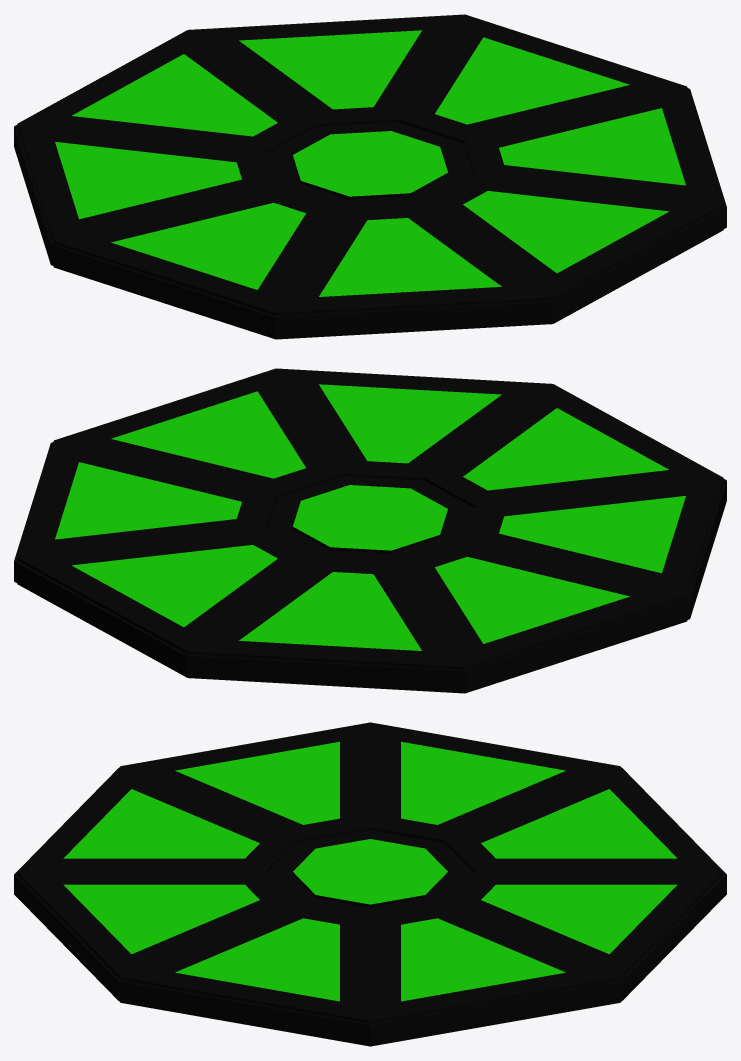
File: yeşilplak.fbx
The picture shows the model from 3 angles, top to bottom: view 1: azimuth 30°, elevation 25°; view 2: azimuth 150°, elevation 25°; view 3: azimuth 270°, elevation 25°; orthographic projection. The views are drawn at different scales.
Visible parts, largest first — view 1: Cylinder; view 2: Cylinder; view 3: Cylinder.
Boxes of the visible parts, x1,y1,x2,y2 form: Cylinder: [14, 14, 726, 339]; Cylinder: [14, 368, 726, 693]; Cylinder: [14, 722, 726, 1046].
Size of the model in its own units: 564 by 22.42 by 564.
